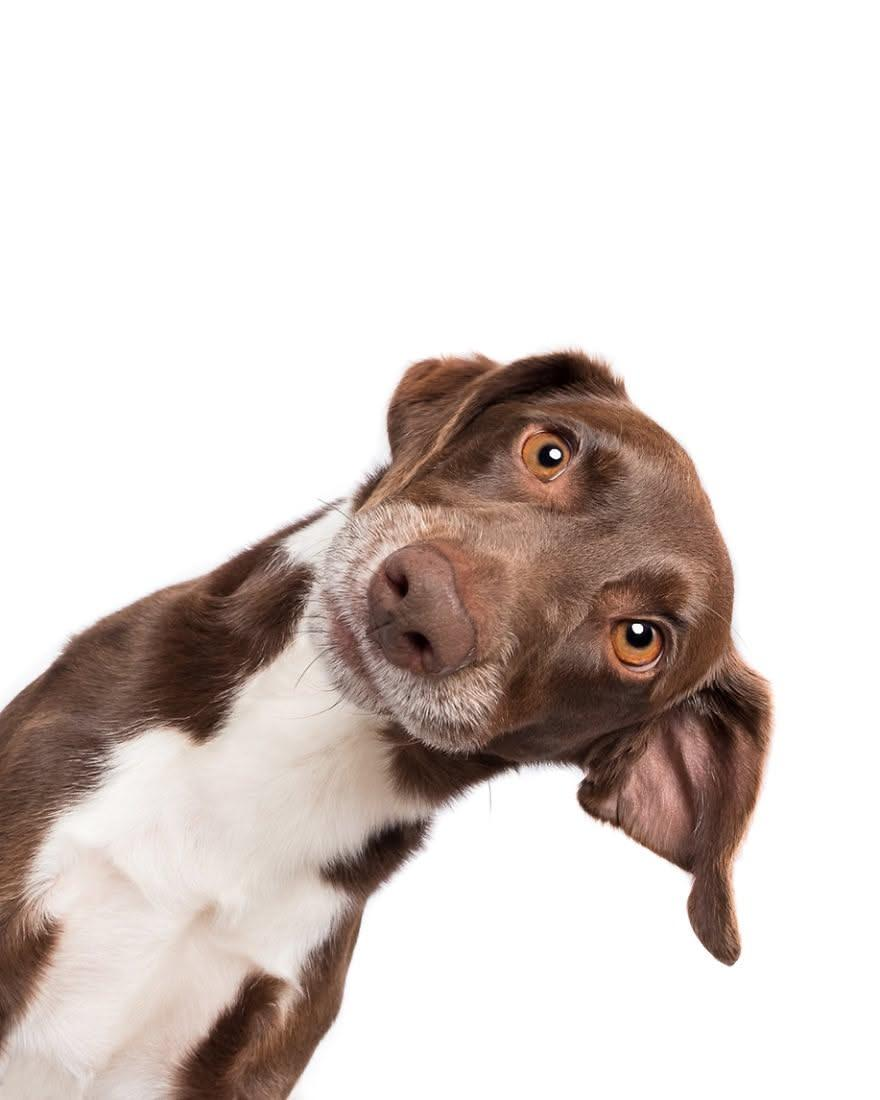adult_dog: (0, 346, 776, 1100)
